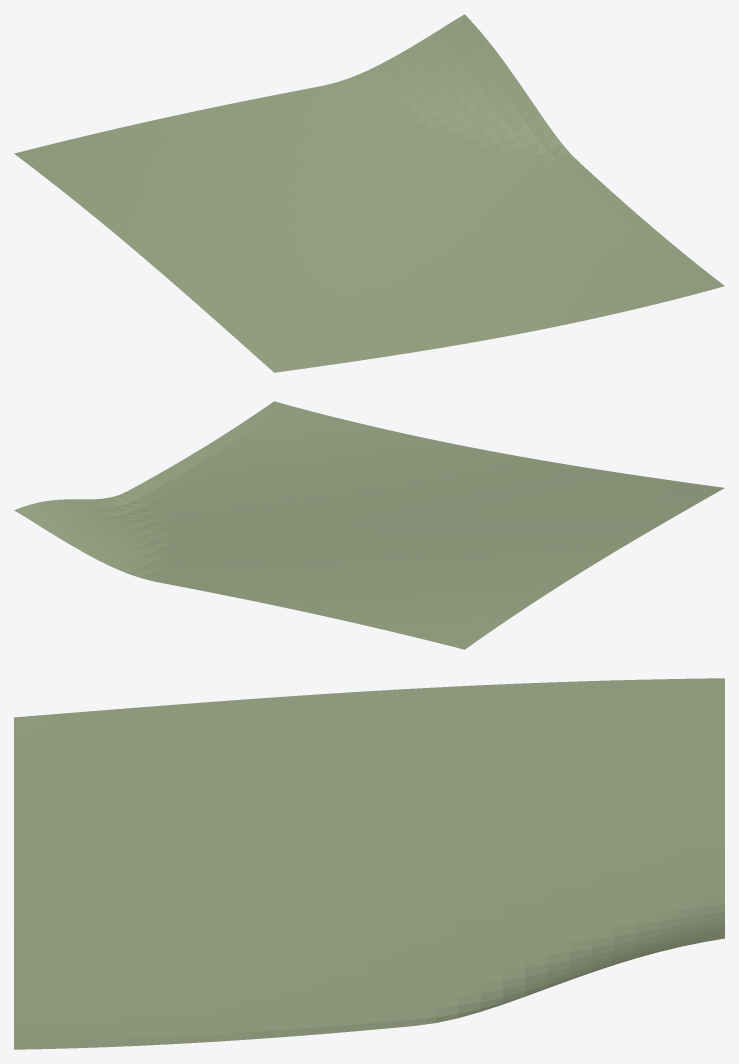
Rendered from alpine-1-3.glb.
The picture shows the model from 3 angles, top to bottom: view 1: azimuth 30°, elevation 25°; view 2: azimuth 150°, elevation 25°; view 3: azimuth 270°, elevation 25°; orthographic projection. The views are drawn at different scales.
Parts seen in each view (by area): view 1: alpine-1-3; view 2: alpine-1-3; view 3: alpine-1-3.
Part boxes in pixels (x1,y1,x2,y2): alpine-1-3: (14,14,724,372); alpine-1-3: (14,401,724,649); alpine-1-3: (14,678,724,1049).
Bounding box in the file's own units: 256 × 44.87 × 256.
